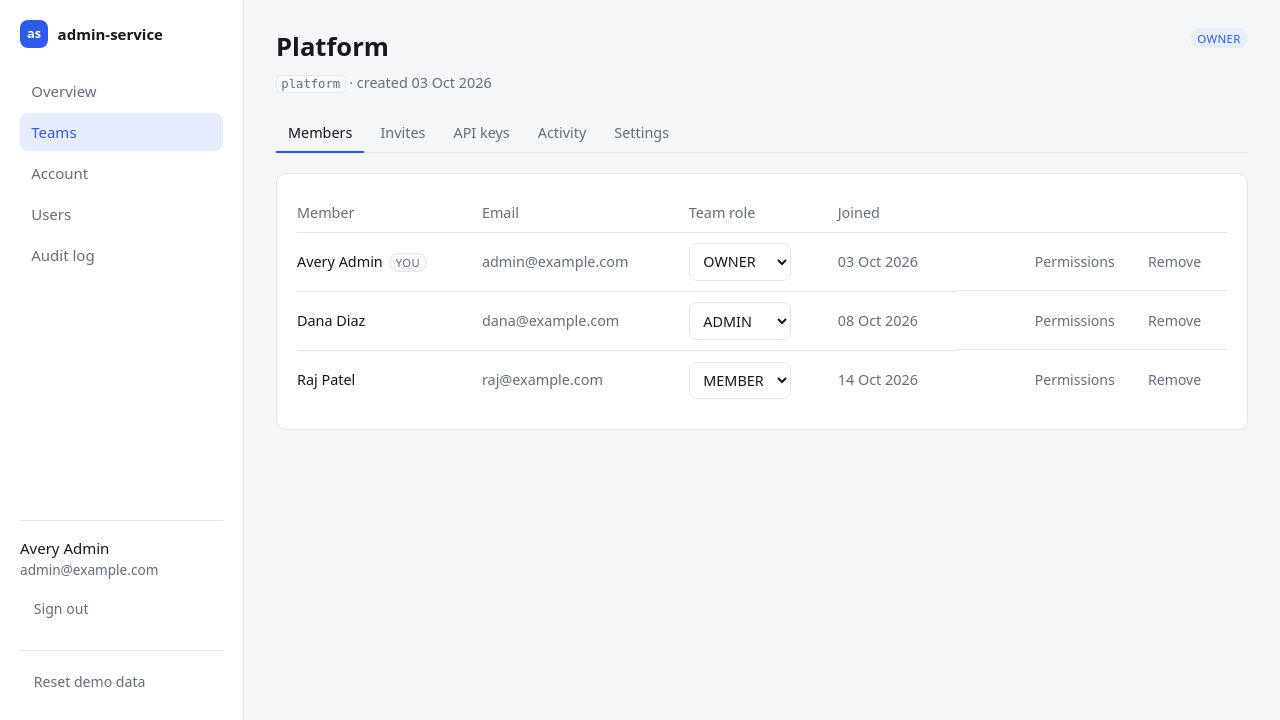
Test: managing members › grants a permission without promoting the member
Click the button "Permissions" in the row of "Raj Patel": (1075,379) x1=1021 y1=361 x2=1129 y2=398
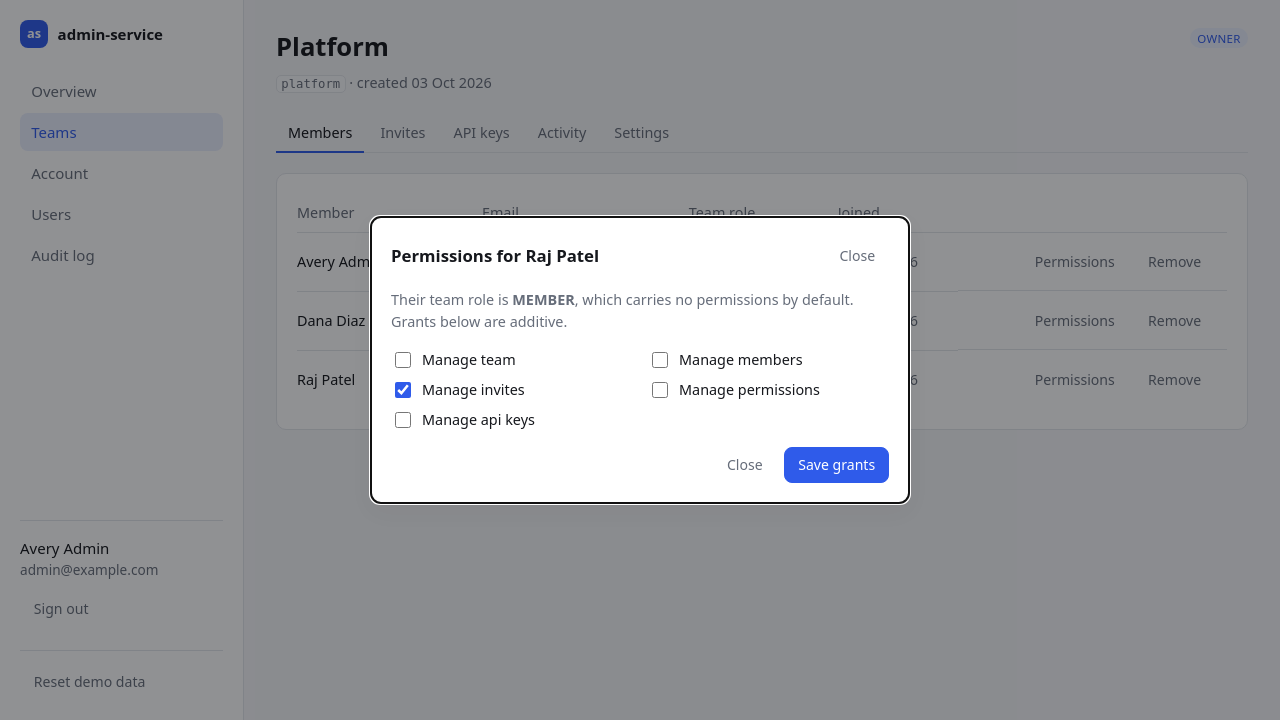
Click the checkbox labelled "Manage api keys": (403,420) x1=395 y1=412 x2=411 y2=428
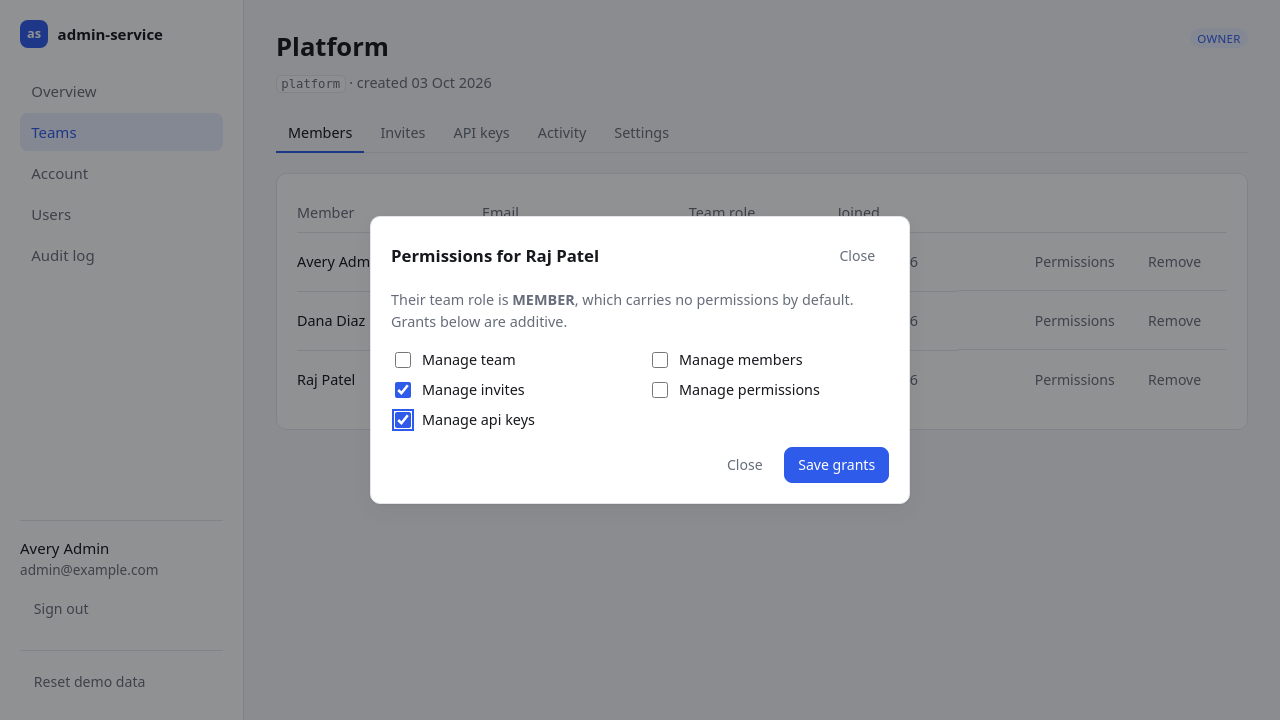
Click the button "Save grants": (837,465) x1=784 y1=447 x2=889 y2=483
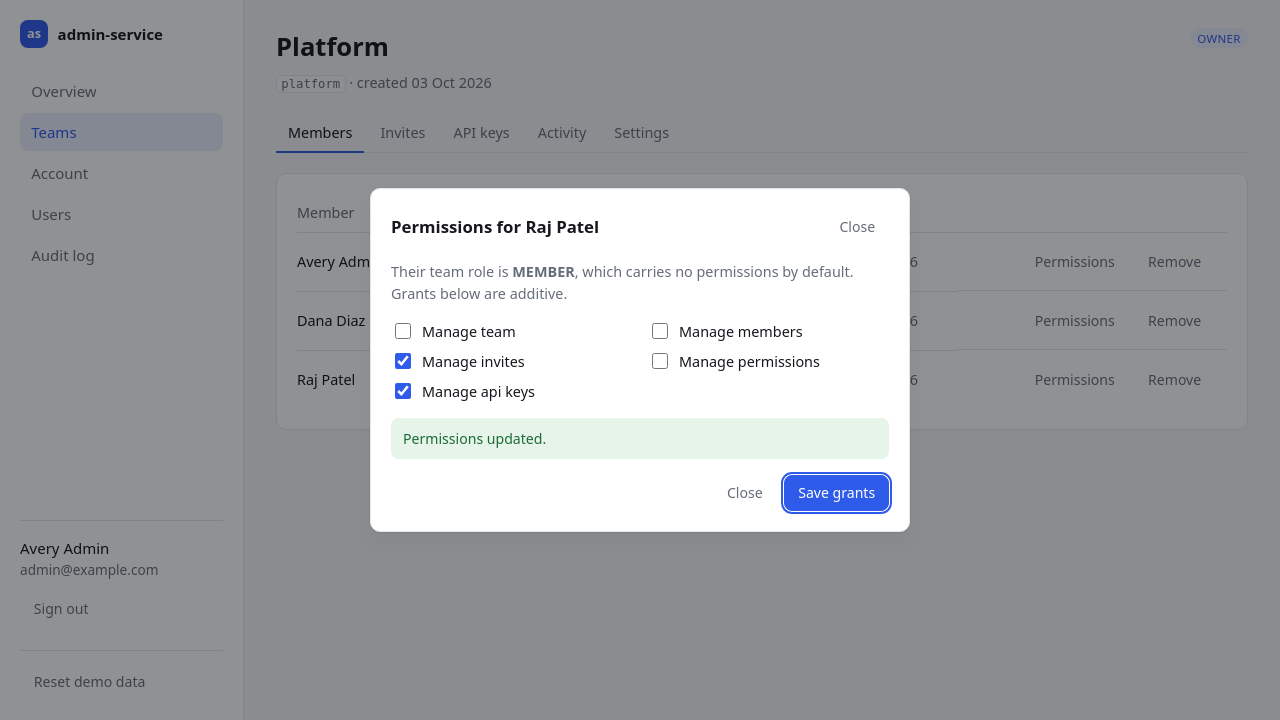
Now the text "Permissions updated." is shown, box x1=391 y1=418 x2=889 y2=459
